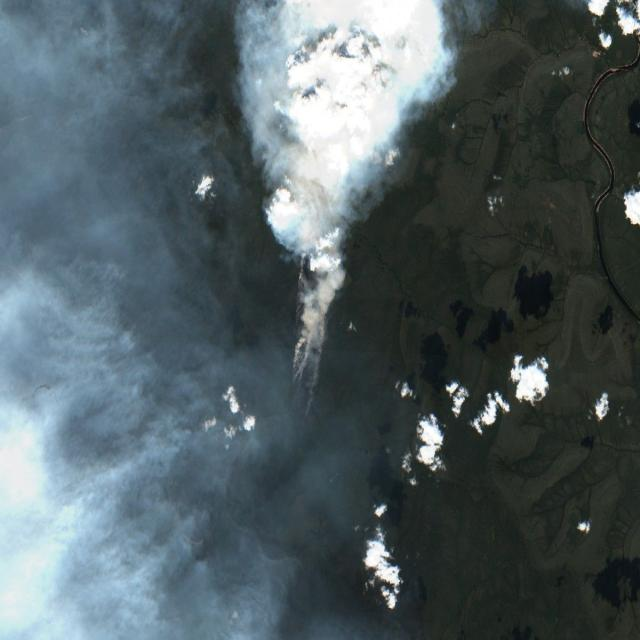fire: (281, 192, 343, 421)
